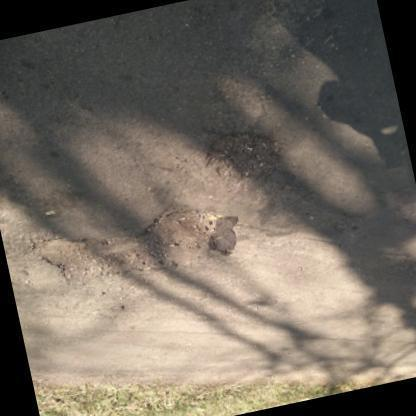pothole: (33, 204, 232, 287), (204, 124, 284, 195)
